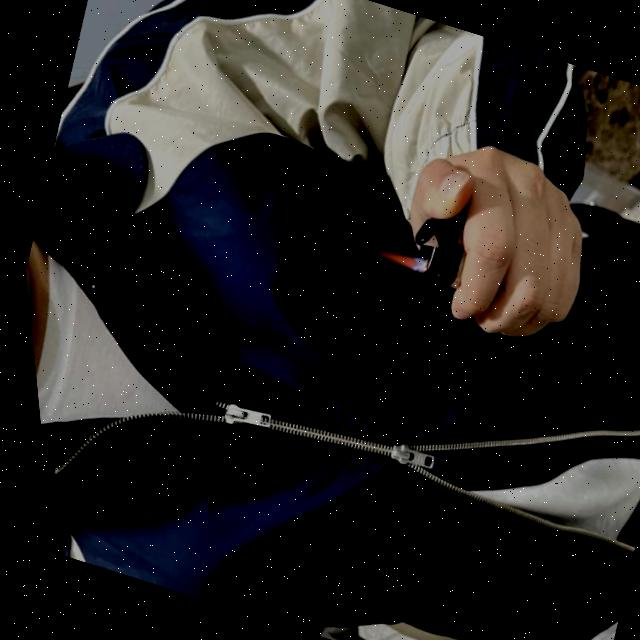Fire: (359, 238, 420, 274)
